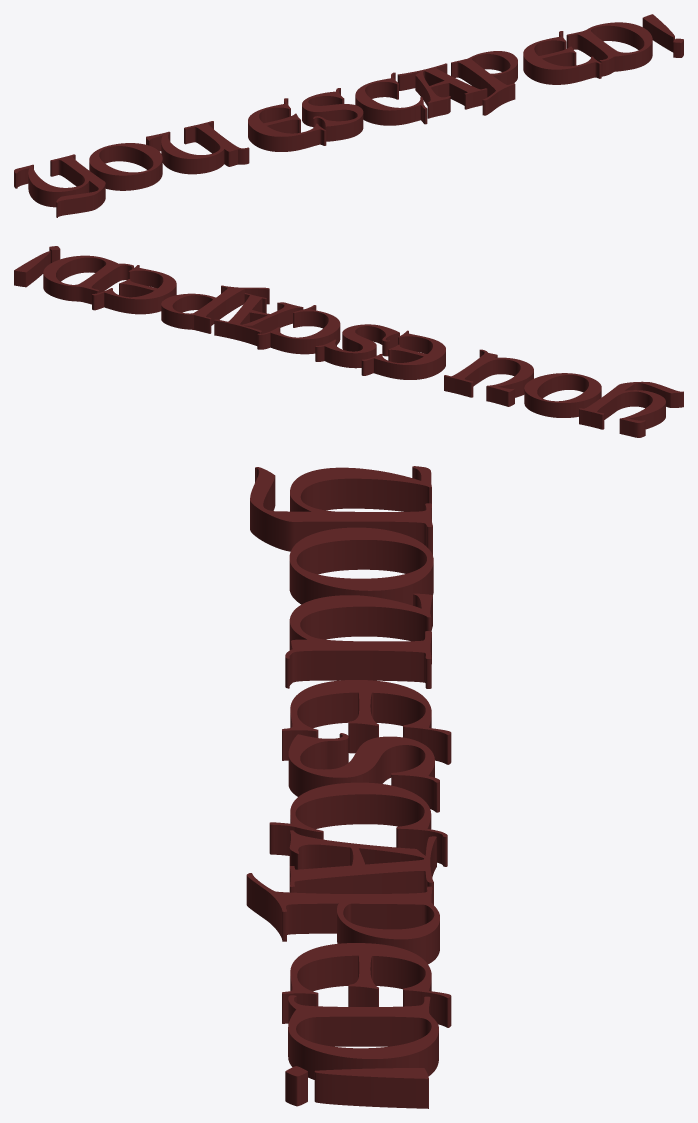
File: Credits.fbx
3 renders of one model, top to bottom at view 1: azimuth 30°, elevation 25°; view 2: azimuth 150°, elevation 25°; view 3: azimuth 270°, elevation 25°, orthographic. The views are drawn at different scales.
Visible parts, largest first — view 1: Text; view 2: Text; view 3: Text.
Boxes of the visible parts, left/top/right/bottom form: Text: left=14, top=14, right=683, bottom=217; Text: left=14, top=246, right=683, bottom=437; Text: left=246, top=466, right=451, bottom=1108.
Bounding box in the file's own units: 439 × 10 × 61.92.
